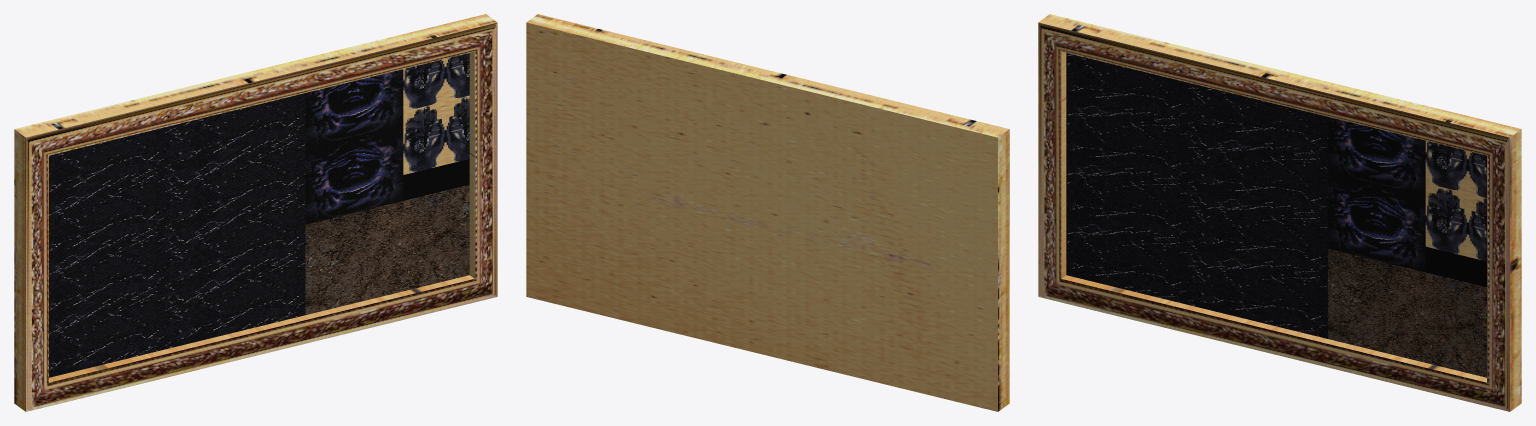
Rendered from painting.fbx.
3 views of the same model, side by side, from view 1: azimuth 30°, elevation 25°; view 2: azimuth 150°, elevation 25°; view 3: azimuth 330°, elevation 25° (orthographic).
Visible parts, largest first — view 1: painting, painting_frame; view 2: painting_frame; view 3: painting, painting_frame.
Boxes of the visible parts, <box> form: painting: <box>49,53,469,377</box>; painting_frame: <box>14,14,497,411</box>; painting_frame: <box>526,14,1009,411</box>; painting: <box>1066,53,1486,377</box>; painting_frame: <box>1038,14,1521,411</box>.
Bounding box in the file's own units: 556 × 309 × 23.76.
